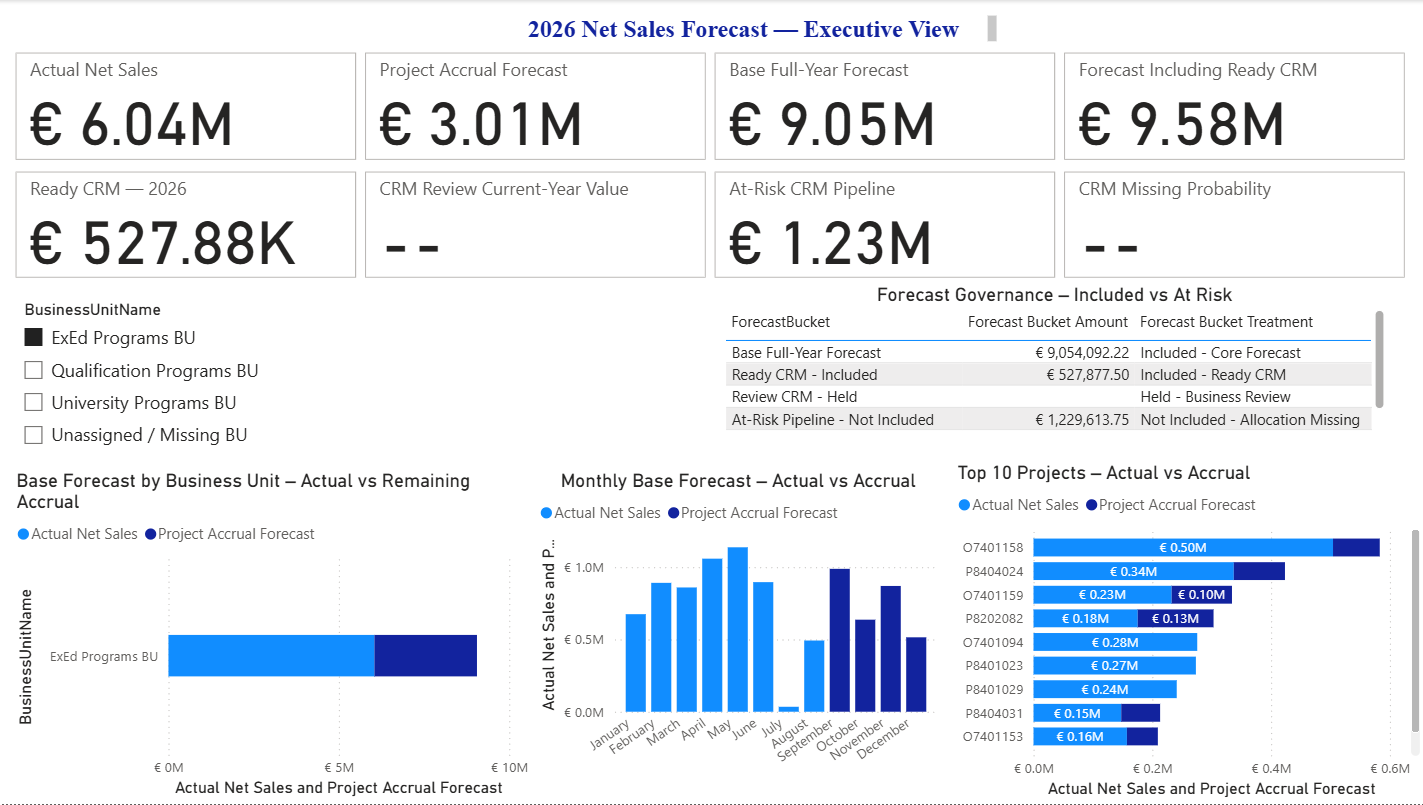

Layout of this report page (visuals, bound fields, positions):
{"tool":"powerbi","page":{"name":"Executive Dashboard","canvas":[1280,720],"ordinal":3},"visuals":[{"type":"cardVisual","fields":{"Data":["DimDate.Actual Net Sales","DimDate.Project Accrual Forecast","DimDate.Base Full-Year Forecast","DimBusinessUnit.Forecast Including Ready CRM"]},"box":[12.4,42.1,1256.1,106.3],"z":0},{"type":"cardVisual","fields":{"Data":["DimBusinessUnit.CRM Ready Current-Year Value","DimBusinessUnit.CRM Review Current-Year Value","DimBusinessUnit.CRM At-Risk Weighted Pipeline","DimBusinessUnit.CRM Missing Probability Estimated Value"]},"box":[12.4,148.4,1255.1,105.3],"z":1000},{"type":"slicer","fields":{"Values":["DimBusinessUnit.BusinessUnitName"]},"box":[12.4,264.2,234.6,151.3],"z":2000},{"type":"columnChart","title":"Monthly Base Forecast – Actual vs Accrual","fields":{"Category":["DimDate.MonthName"],"Y":["DimDate.Actual Net Sales","DimDate.Project Accrual Forecast"]},"box":[481.6,420.3,365.7,298.7],"z":3000},{"type":"barChart","title":"Base Forecast by Business Unit – Actual vs Remaining Accrual","fields":{"Category":["DimBusinessUnit.BusinessUnitName"],"Y":["DimDate.Actual Net Sales","DimDate.Project Accrual Forecast"]},"box":[13.4,420.3,468.2,298.7],"z":4000},{"type":"tableEx","title":"Forecast Governance – Included vs At Risk","fields":{"Values":["DimForecastBucket.ForecastBucket","DimBusinessUnit.Forecast Bucket Amount","DimBusinessUnit.Forecast Bucket Treatment"]},"box":[647.2,253.7,601.2,137.9],"z":5000},{"type":"barChart","title":"Top 10 Projects – Actual vs Accrual","fields":{"Category":["DimProject.ProjectID"],"Y":["DimDate.Actual Net Sales","DimDate.Project Accrual Forecast"]},"box":[855.9,412.6,424.1,306.4],"z":6000},{"type":"textbox","box":[471,8.6,429.9,33.5],"z":7000}]}

Visuals, with their boxes in screenshot pixels (x1, y1, x2, y2), scaled from the page's 1280x720 canvas onto the 1423x805 screenshot:
cardVisual - DimDate.Actual Net Sales x DimDate.Project Accrual Forecast: BBox(14, 47, 1410, 166)
cardVisual - DimBusinessUnit.CRM Ready Current-Year Value x DimBusinessUnit.CRM Review Current-Year Value: BBox(14, 166, 1409, 284)
slicer - DimBusinessUnit.BusinessUnitName: BBox(14, 295, 275, 465)
"Monthly Base Forecast – Actual vs Accrual" columnChart: BBox(535, 470, 942, 804)
"Base Forecast by Business Unit – Actual vs Remaining Accrual" barChart: BBox(15, 470, 535, 804)
"Forecast Governance – Included vs At Risk" tableEx: BBox(720, 284, 1388, 438)
"Top 10 Projects – Actual vs Accrual" barChart: BBox(952, 461, 1422, 804)
textbox: BBox(524, 10, 1002, 47)
